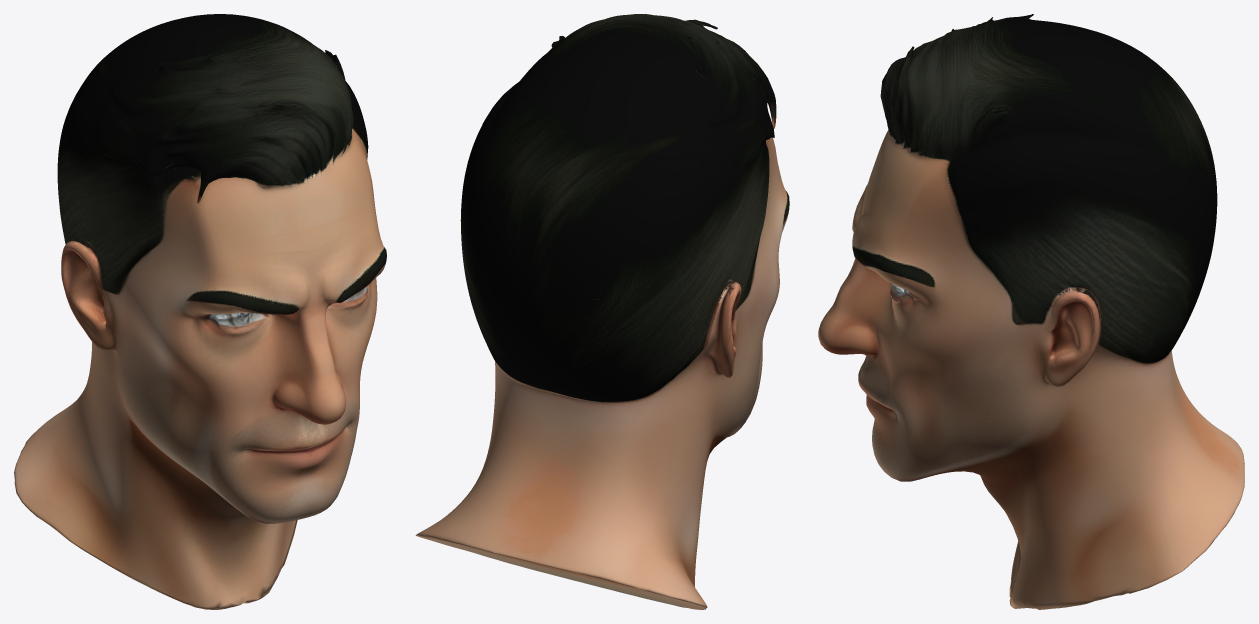
Rendered from vance.glb.
The picture shows the model from 3 angles, left to right: view 1: azimuth 30°, elevation 25°; view 2: azimuth 150°, elevation 25°; view 3: azimuth 270°, elevation 25°; orthographic projection.
Parts seen in each view (by area): view 1: model; view 2: model; view 3: model.
Part boxes in pixels (x1=…): model: x1=14, y1=14, x2=386, y2=609; model: x1=415, y1=14, x2=789, y2=609; model: x1=818, y1=14, x2=1244, y2=609.
Bounding box in the file's own units: 0.988 × 1.9 × 1.31.
1 material, 1 textured.
